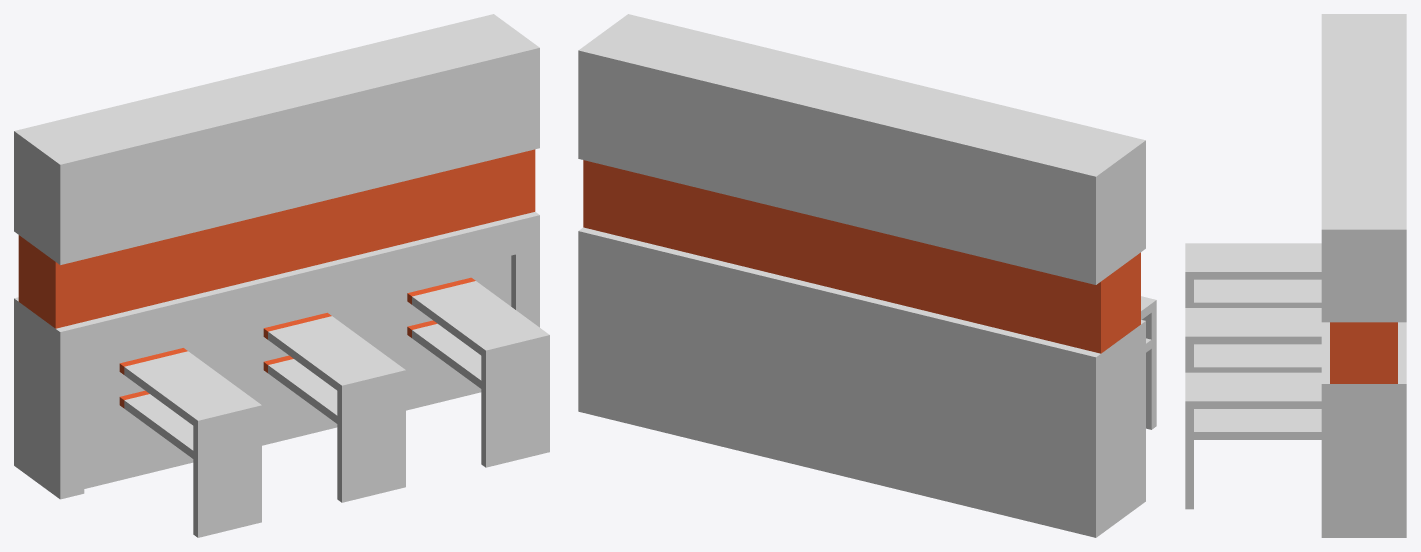
Rendered from Commisary Wall 6.obj.
3 views of the same model, side by side, from view 1: azimuth 30°, elevation 25°; view 2: azimuth 150°, elevation 25°; view 3: azimuth 270°, elevation 25° (orthographic). The views are drawn at different scales.
Size of the model in its own units: 60 by 40 by 26.
Materials: 1 (1 with a texture image).
